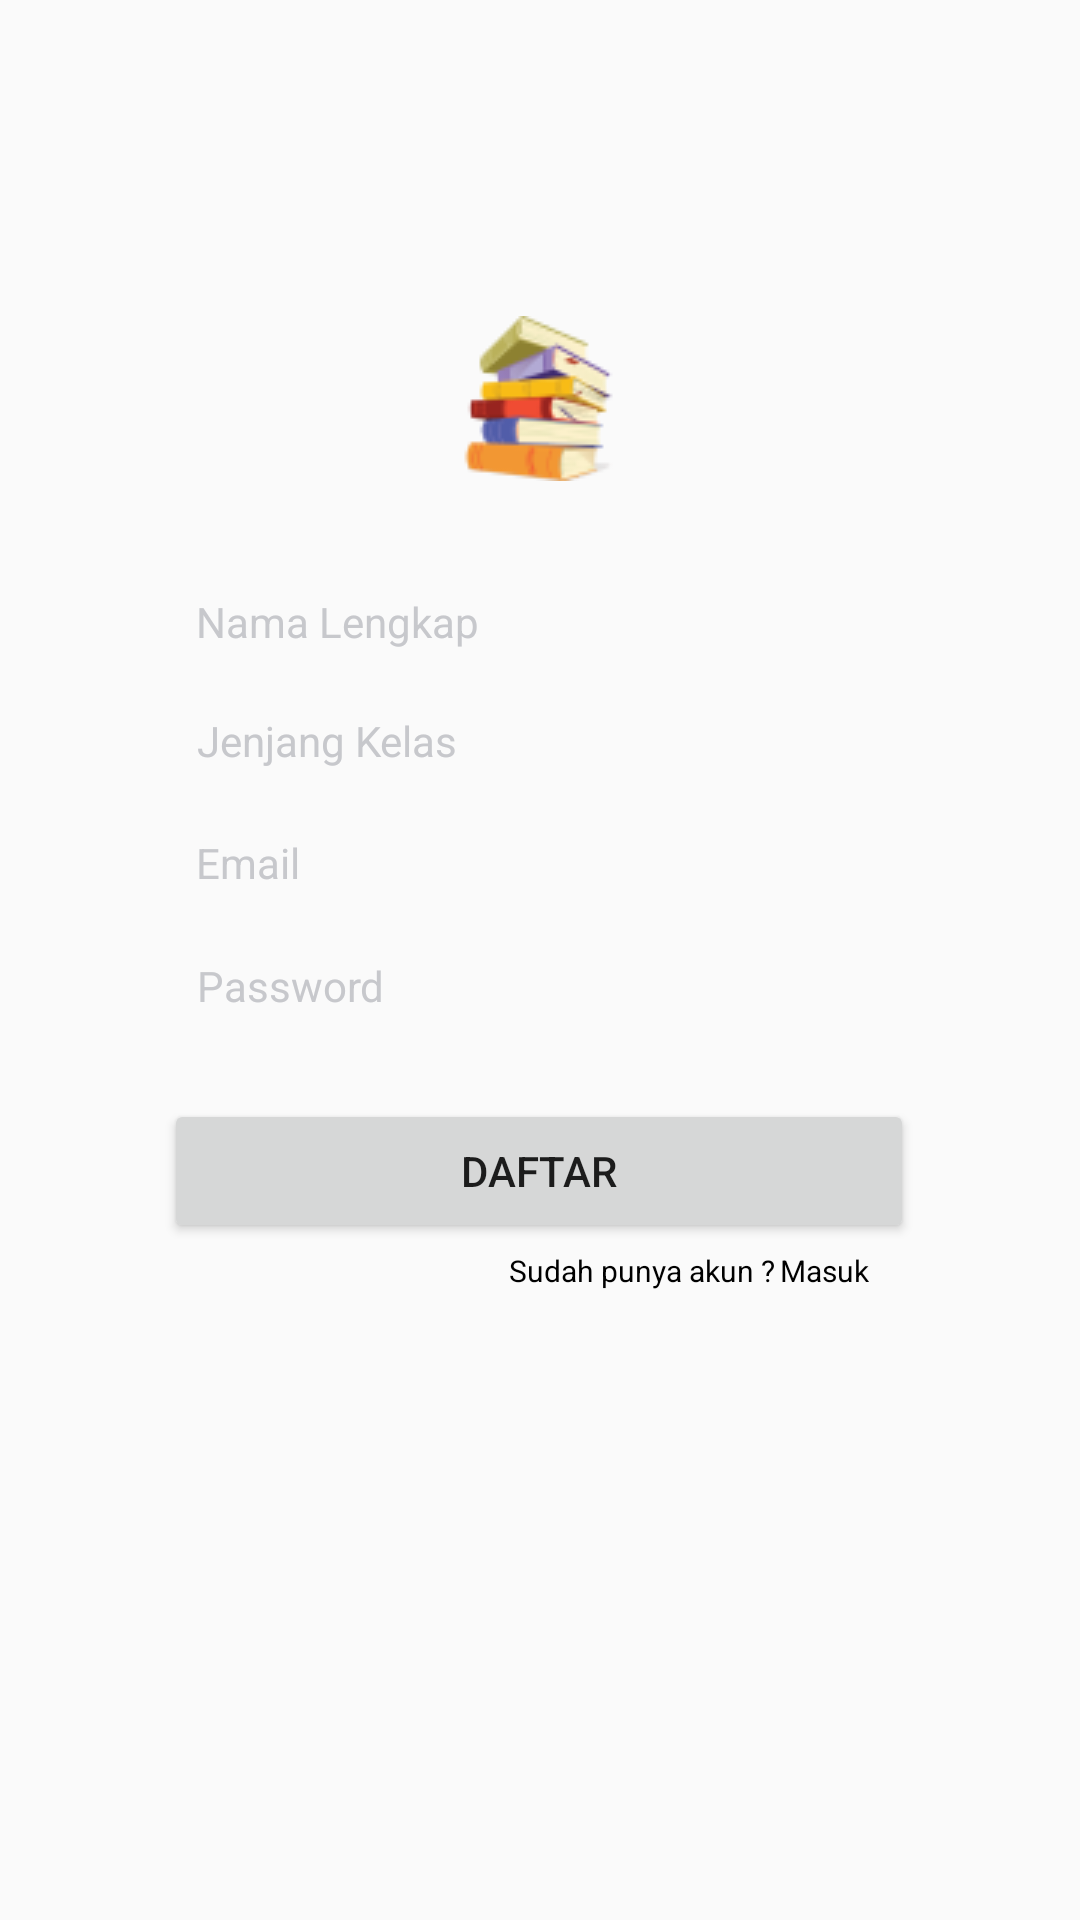

Screen size 1080px x 1920px. Icon name, then its center in pixels as (x=x, y=y):
buku: (x=538, y=398)
